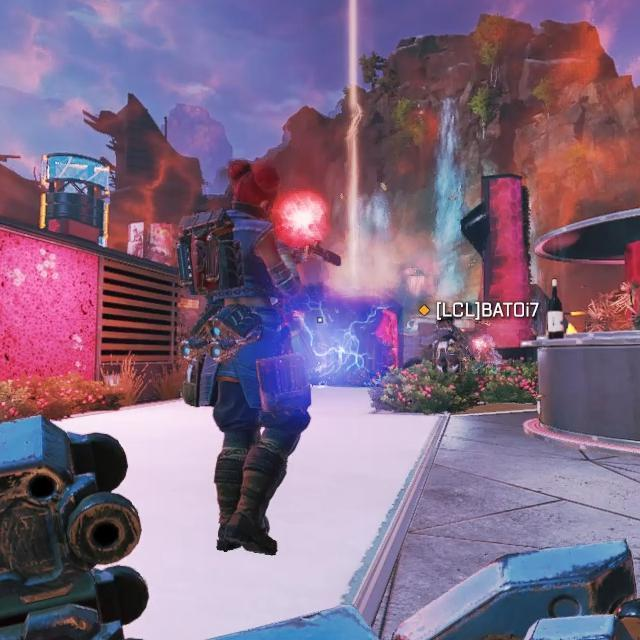avatar: (172, 158, 320, 562)
object: (266, 186, 331, 250)
